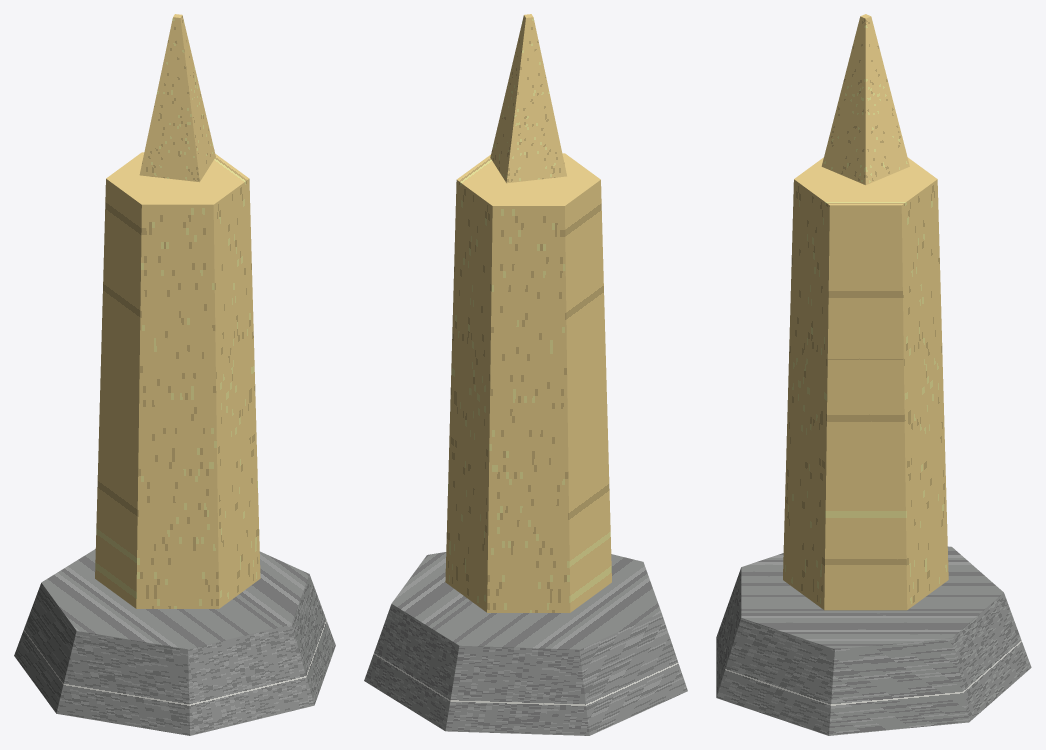
Rendered from tool-candle.glb.
3 renders of one model, left to right at view 1: azimuth 30°, elevation 25°; view 2: azimuth 150°, elevation 25°; view 3: azimuth 270°, elevation 25°, orthographic.
Visible parts, largest first — view 1: candle, glow-flame; view 2: candle, glow-flame; view 3: candle, glow-flame.
Part boxes in pixels (x1,y1,x2,y2): candle: (14,152,335,735); glow-flame: (139,14,215,182); candle: (364,153,687,735); glow-flame: (490,14,566,183); candle: (716,157,1031,735); glow-flame: (821,14,909,185).
Size of the model in its own units: 0.117 by 0.26 by 0.1141.
Materials: 1 (1 with a texture image).
